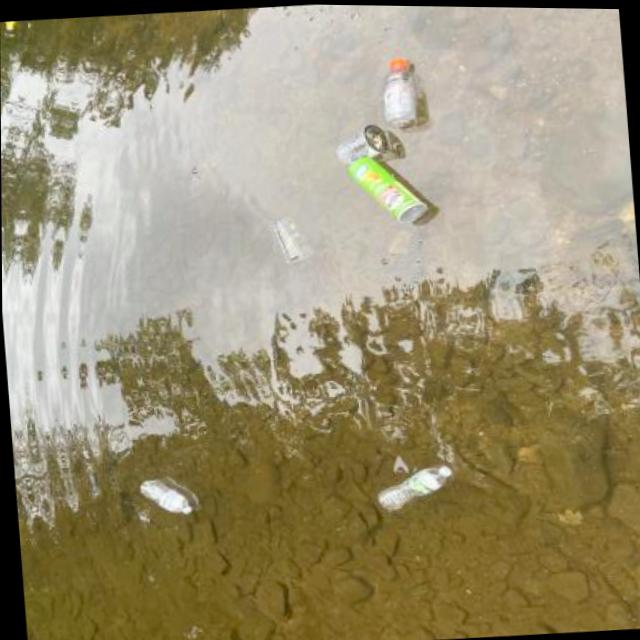Can-Metal: (338, 142, 437, 234)
Plastic: (364, 458, 458, 518), (372, 47, 427, 138), (262, 203, 316, 272), (328, 115, 393, 172), (128, 473, 194, 523)
